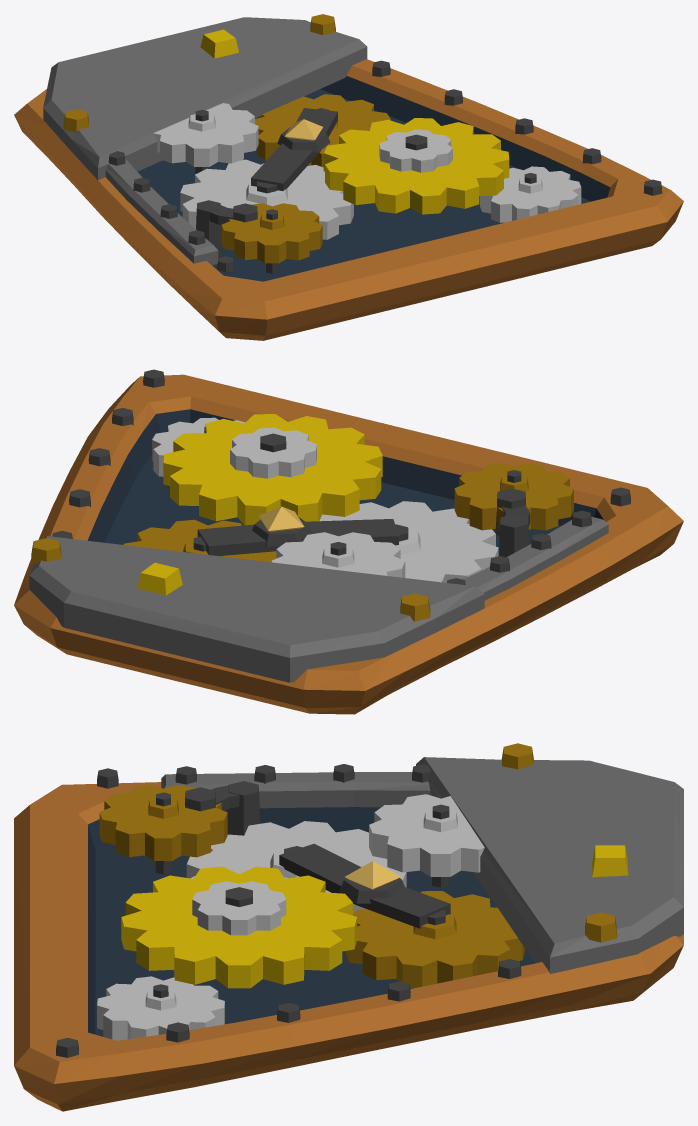
The model's file is clockwork-back-plate-92537f.glb.
The picture shows the model from 3 angles, top to bottom: view 1: azimuth 30°, elevation 25°; view 2: azimuth 150°, elevation 25°; view 3: azimuth 270°, elevation 25°; orthographic projection. The views are drawn at different scales.
Parts seen in each view (by area): view 1: back; view 2: back; view 3: back.
Part boxes in pixels (<box>): back: <box>14,14,683,340</box>; back: <box>14,369,683,714</box>; back: <box>14,743,683,1111</box>.
Size of the model in its own units: 0.065 by 0.0126 by 0.0635.
